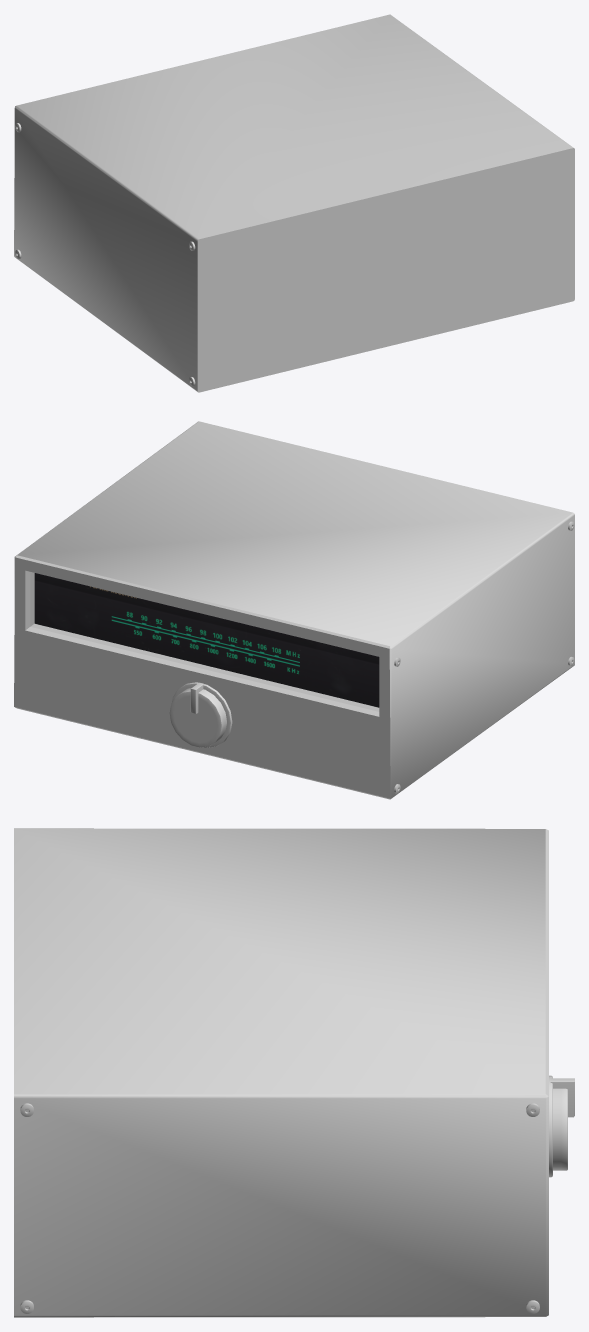
File: Me-Scanner.FBX
3 views of the same model, one above another, from view 1: azimuth 30°, elevation 25°; view 2: azimuth 150°, elevation 25°; view 3: azimuth 270°, elevation 25° (orthographic). The views are drawn at different scales.
Parts seen in each view (by area): view 1: Box011; view 2: Box011, Plane002, Cylinder010, Cylinder011; view 3: Box011, Cylinder010.
Boxes of the visible parts, bbox=[...] form: Box011: bbox=[14, 14, 574, 392]; Box011: bbox=[14, 421, 574, 799]; Plane002: bbox=[34, 573, 379, 707]; Cylinder010: bbox=[169, 688, 226, 747]; Cylinder011: bbox=[172, 682, 232, 747]; Box011: bbox=[14, 828, 548, 1317]; Cylinder010: bbox=[553, 1088, 567, 1170].
Bounding box in the file's own units: 66.39 × 25.45 × 58.01.
2 materials, 1 textured.
